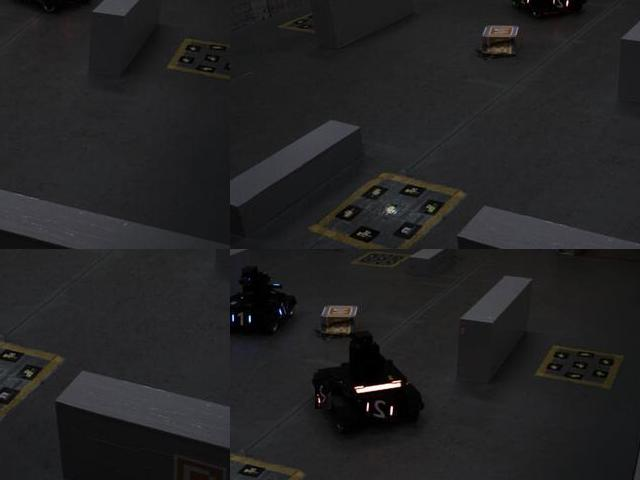armor: (362, 398, 400, 424), (230, 308, 256, 331), (316, 379, 333, 410), (548, 0, 576, 14), (514, 0, 533, 11), (63, 0, 85, 4)
